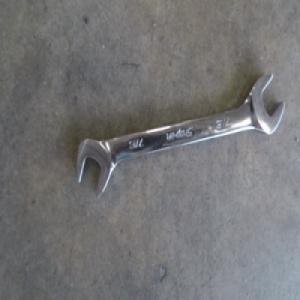Wrench: (76, 73, 280, 199)
